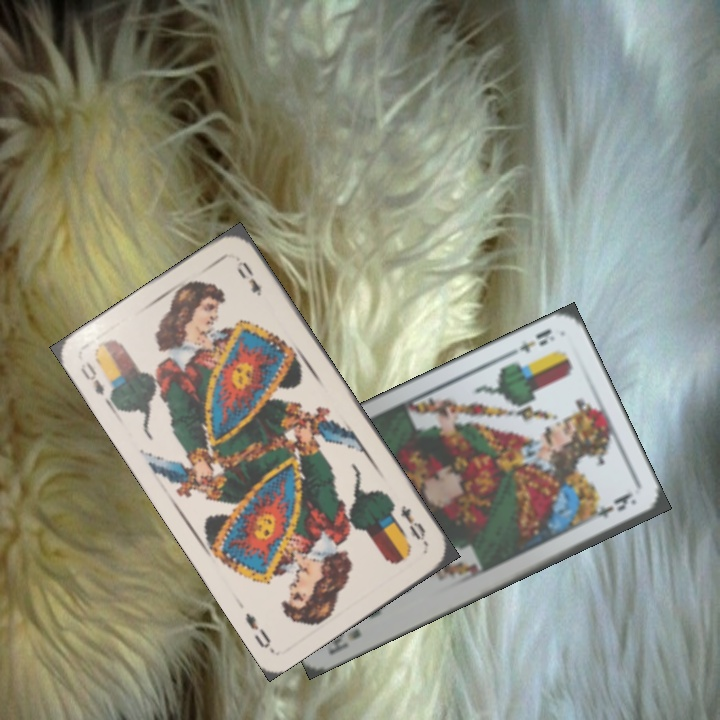EK: (503, 324, 558, 360), (323, 624, 364, 658)
EO: (76, 357, 118, 408), (395, 501, 430, 548)
